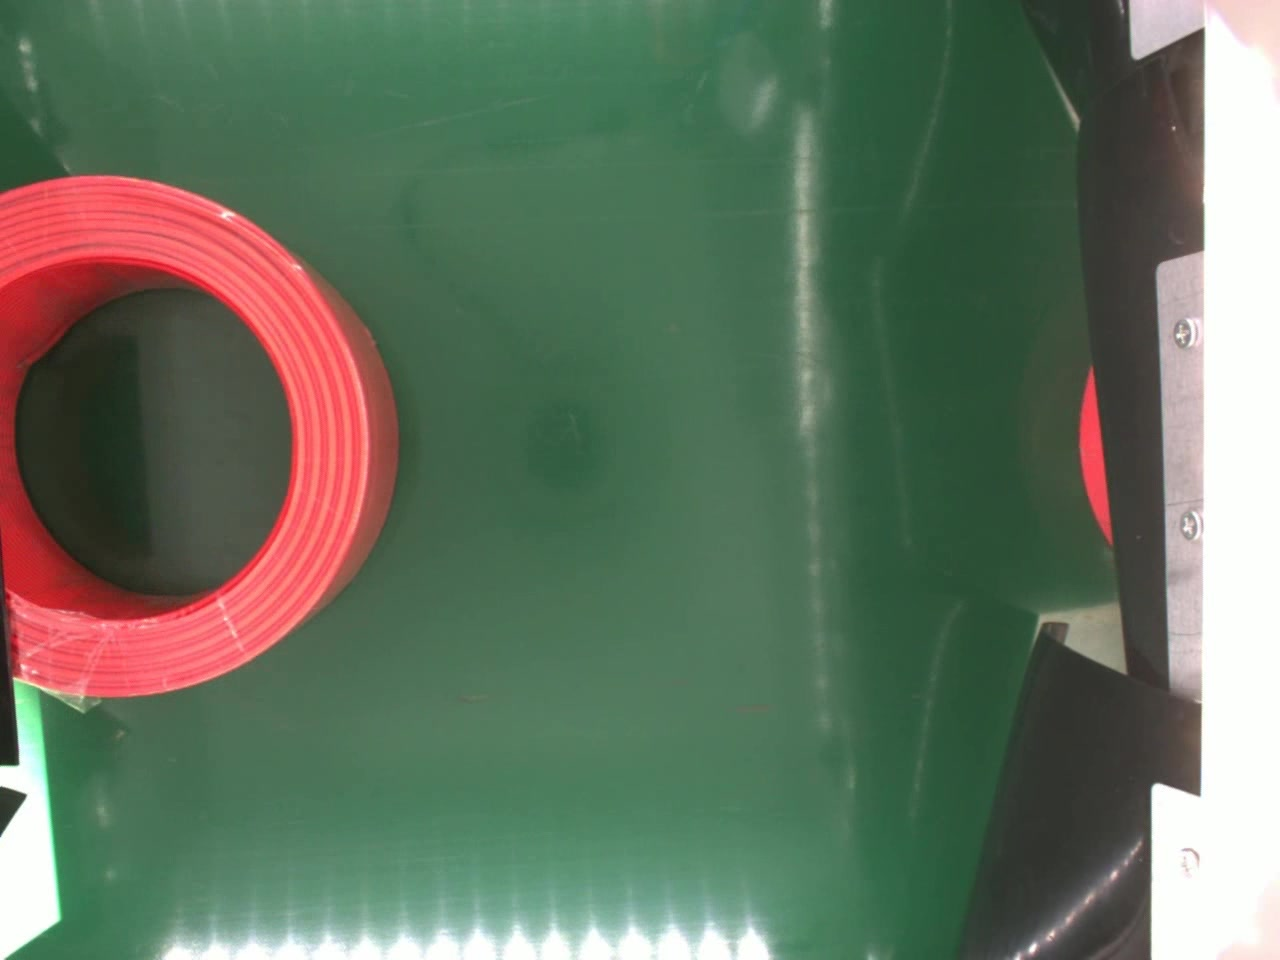red: (0, 174, 401, 700)
